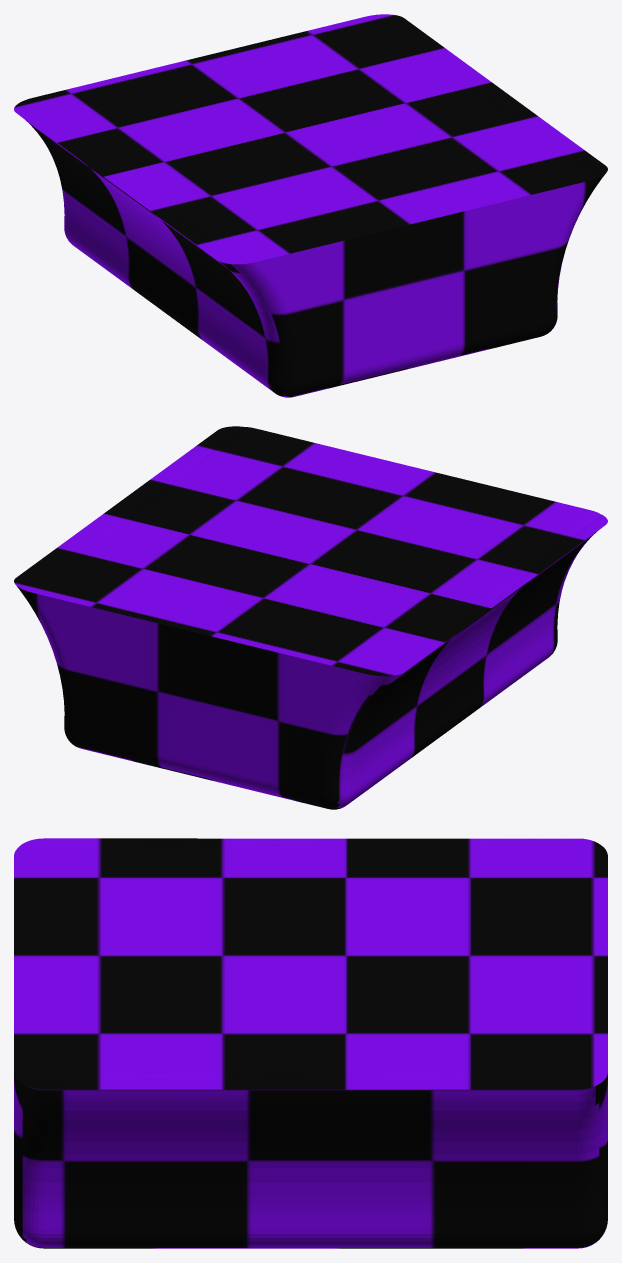
File: PelvisSet.dae
The picture shows the model from 3 angles, top to bottom: view 1: azimuth 30°, elevation 25°; view 2: azimuth 150°, elevation 25°; view 3: azimuth 270°, elevation 25°; orthographic projection. The views are drawn at different scales.
Visible parts, largest first — view 1: Pelvis; view 2: Pelvis; view 3: Pelvis.
Boxes of the visible parts, x1,y1,x2,y2 form: Pelvis: [14, 14, 607, 397]; Pelvis: [14, 426, 607, 809]; Pelvis: [14, 838, 607, 1248].
Size of the model in its own units: 0.4 by 0.4 by 0.15.
1 material, 1 textured.
